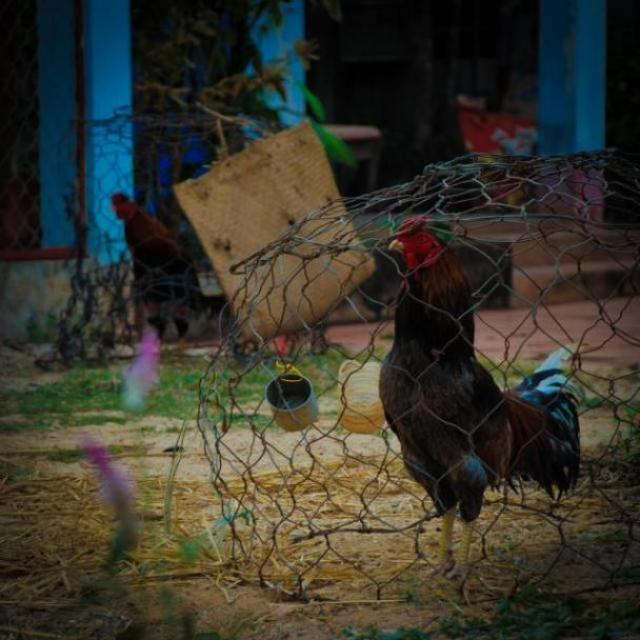Chicken: (348, 214, 584, 533)
